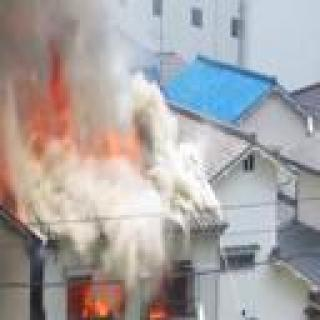fire: (37, 84, 135, 158), (76, 285, 119, 320), (0, 175, 9, 320)
